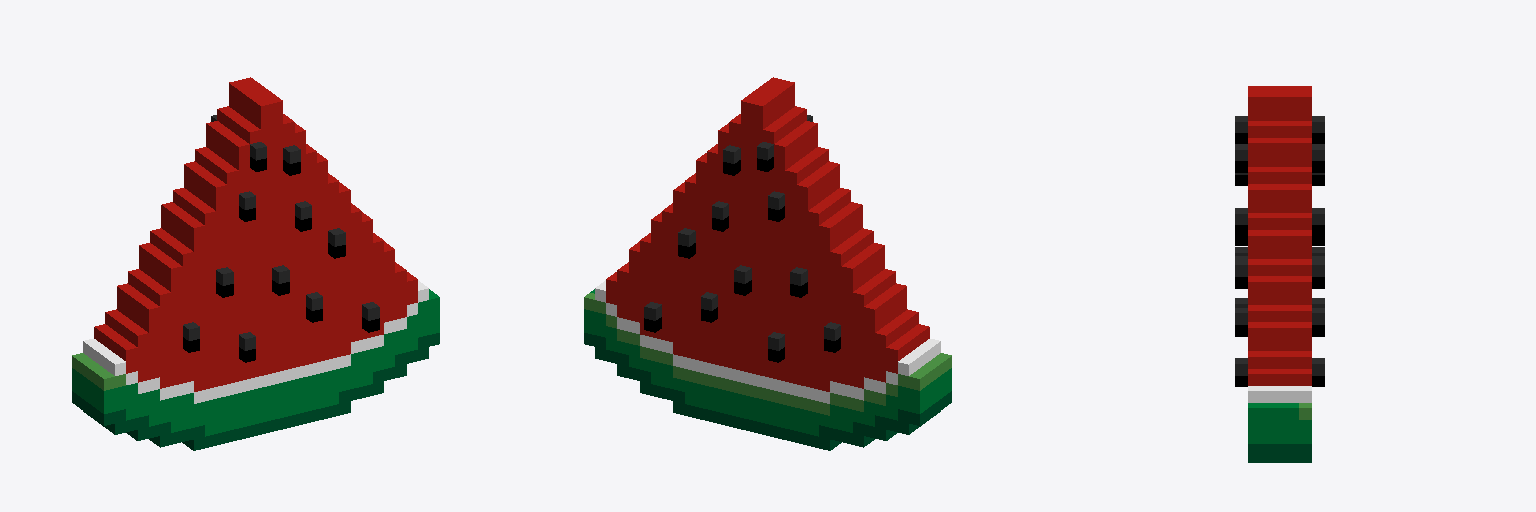
3 views of the same model, side by side, from view 1: azimuth 30°, elevation 25°; view 2: azimuth 150°, elevation 25°; view 3: azimuth 270°, elevation 25° (orthographic).
Visible parts, largest first — view 1: object 1; view 2: object 1; view 3: object 1.
Part boxes in pixels (bbox=[...]): object 1: bbox=[72, 77, 439, 450]; object 1: bbox=[584, 77, 951, 450]; object 1: bbox=[1235, 86, 1324, 462].
Size of the model in its own units: 3 by 2.8 by 0.7.
1 materials, 1 textured.